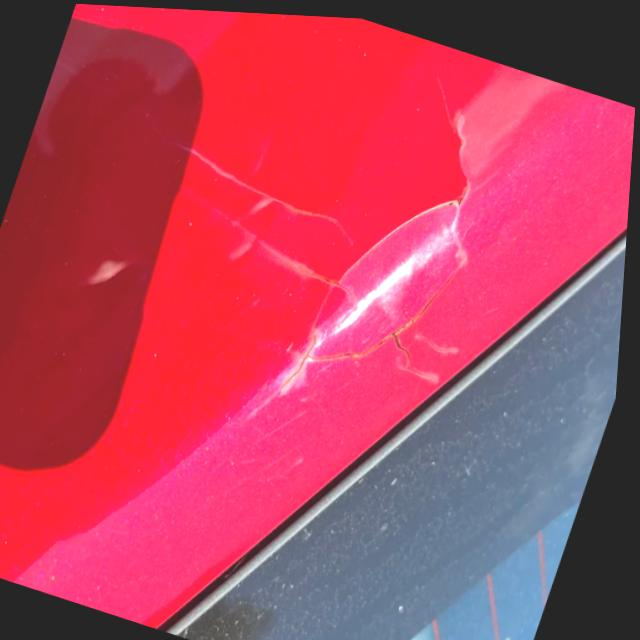Paint-Crack: (230, 88, 478, 293), (244, 244, 470, 426)
